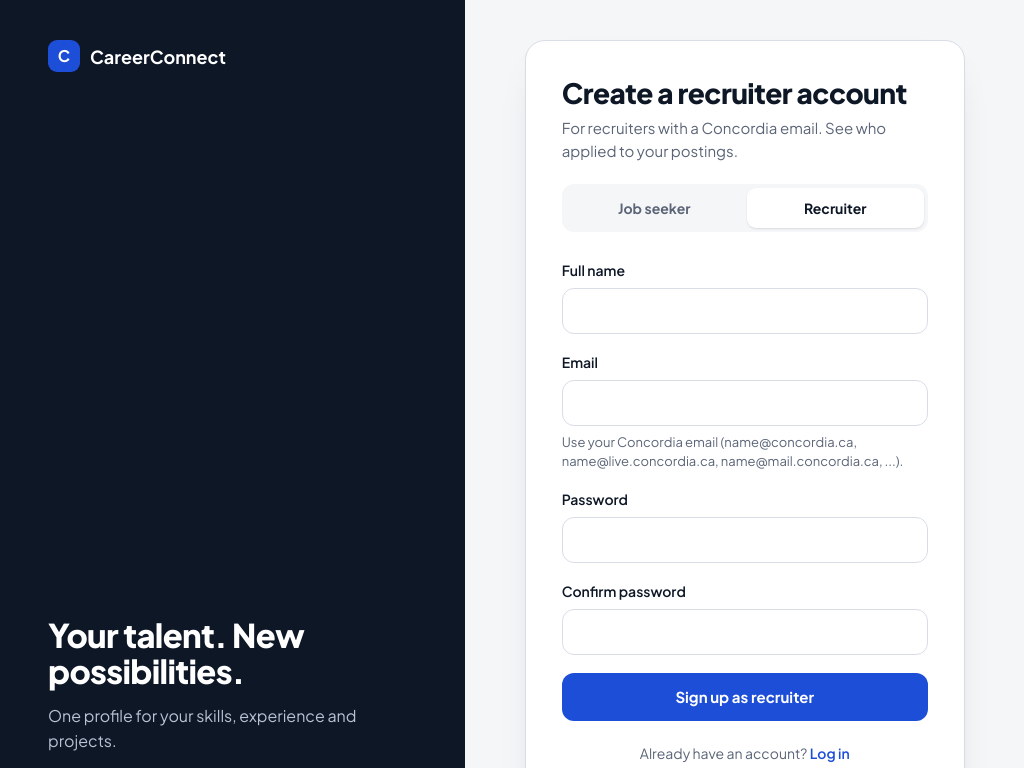
Test: recruiter sign-up › rejects name@gmail.com without contacting the server
The image size is (1024, 768).
Type "Test Person" into the field labelled "Full name". click: (745, 311)
box: top-left (562, 288), bottom-right (928, 334)
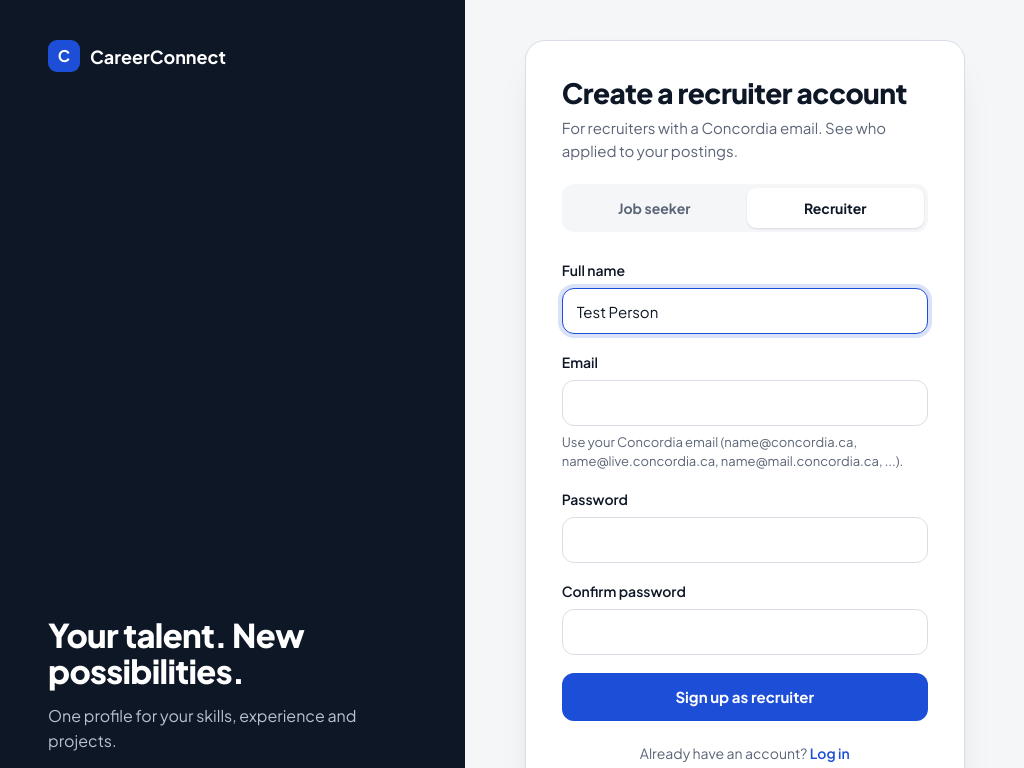
Type "name@gmail.com" into the field labelled "Email". click: (745, 403)
box: top-left (562, 380), bottom-right (928, 426)
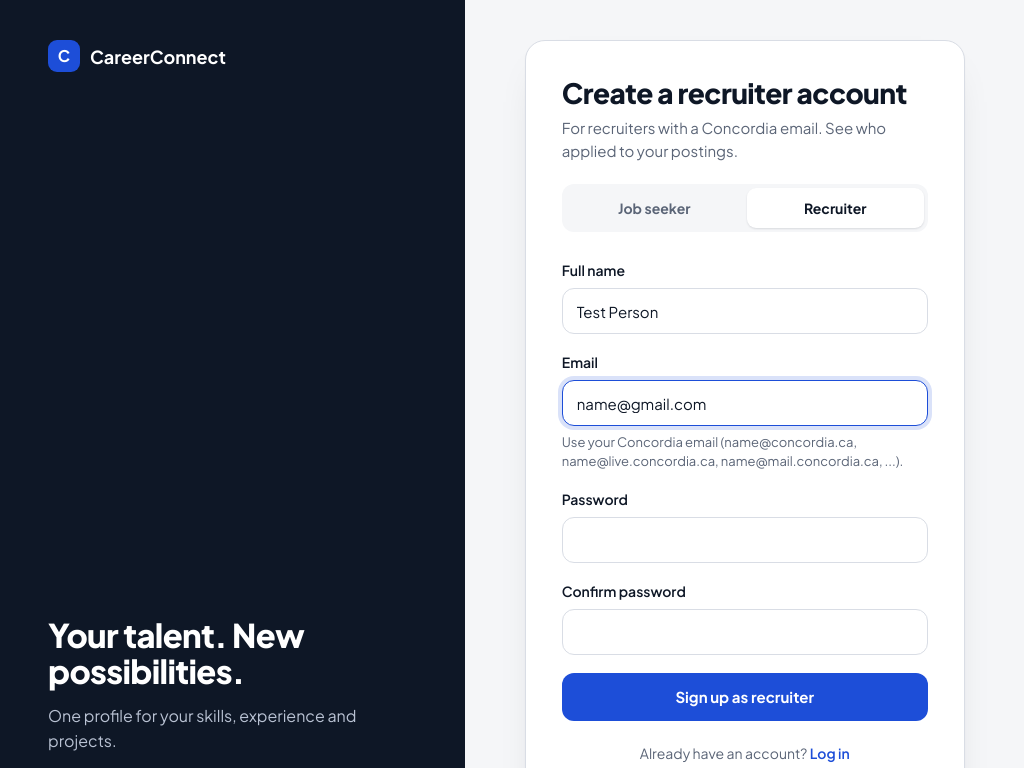
Type "Password123" into the password field labelled "Password". click: (745, 540)
box: top-left (562, 517), bottom-right (928, 563)
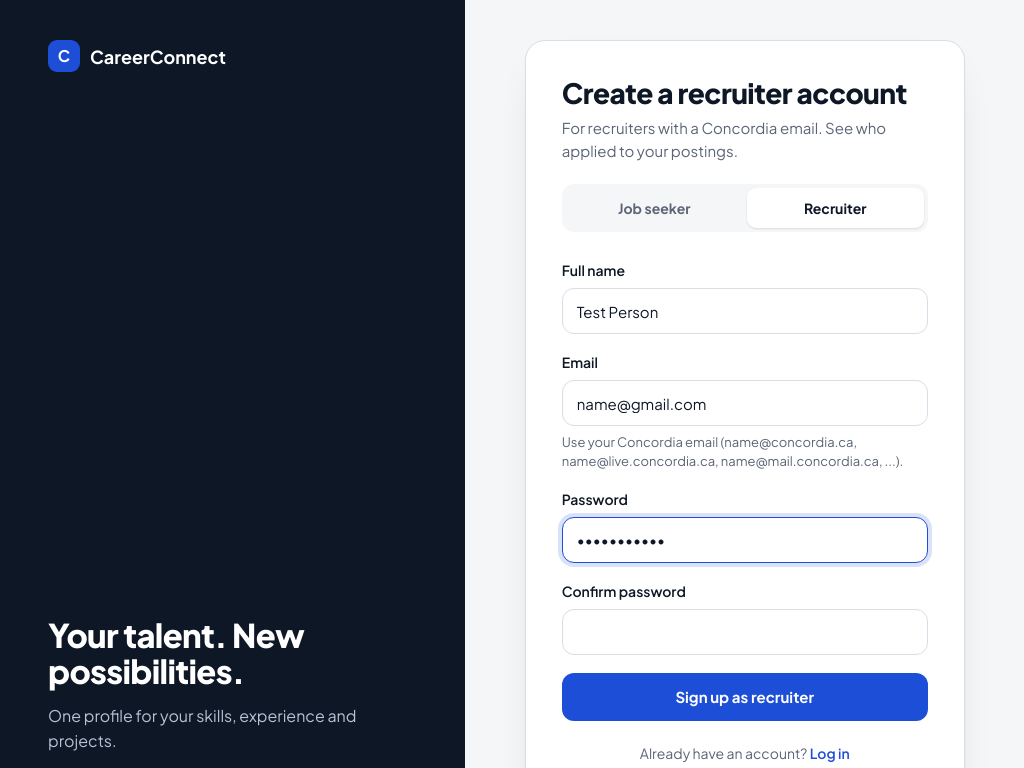
Type "Password123" into the password field labelled "Confirm password". click: (745, 632)
box: top-left (562, 609), bottom-right (928, 655)
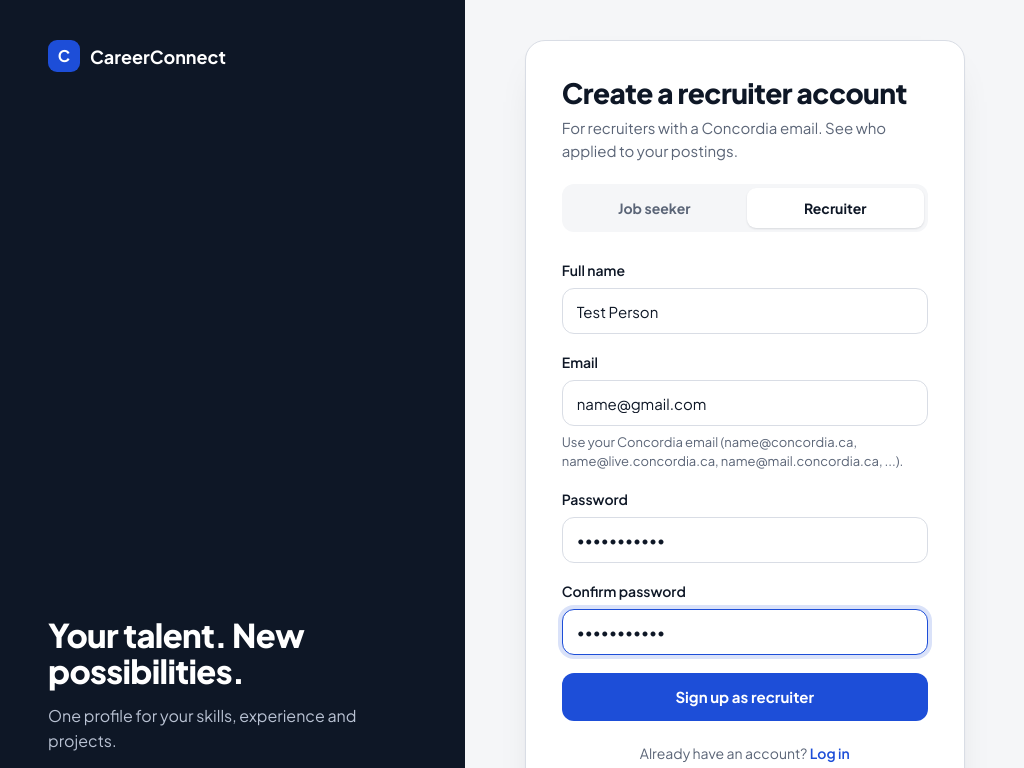
Click the button "Sign up as recruiter". click: (745, 697)
box: top-left (562, 673), bottom-right (928, 721)
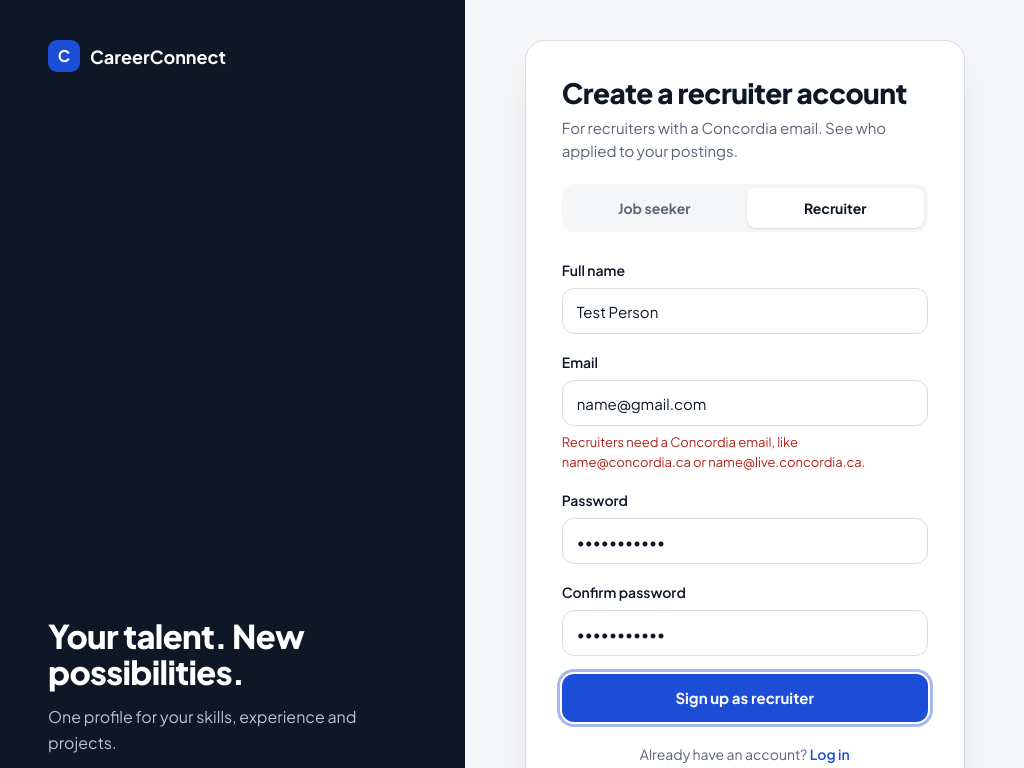
Check: the text "Recruiters need a Concordia email" is shown, box top-left (562, 434), bottom-right (865, 470)
